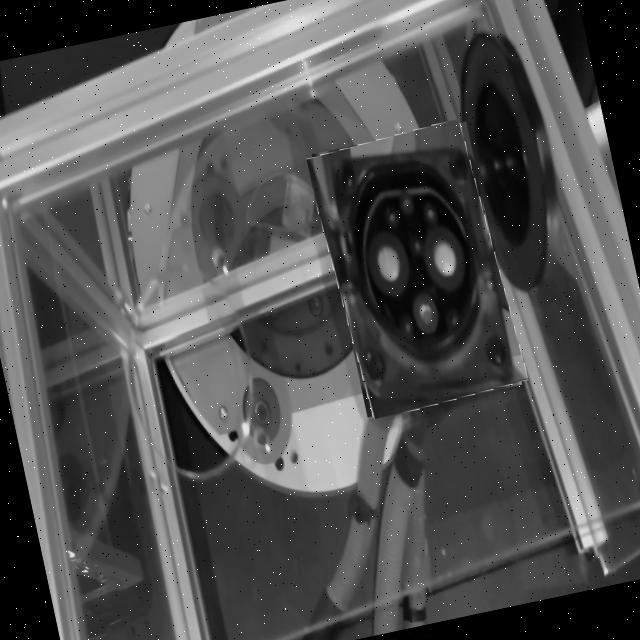GB-T: (336, 137, 504, 412)
